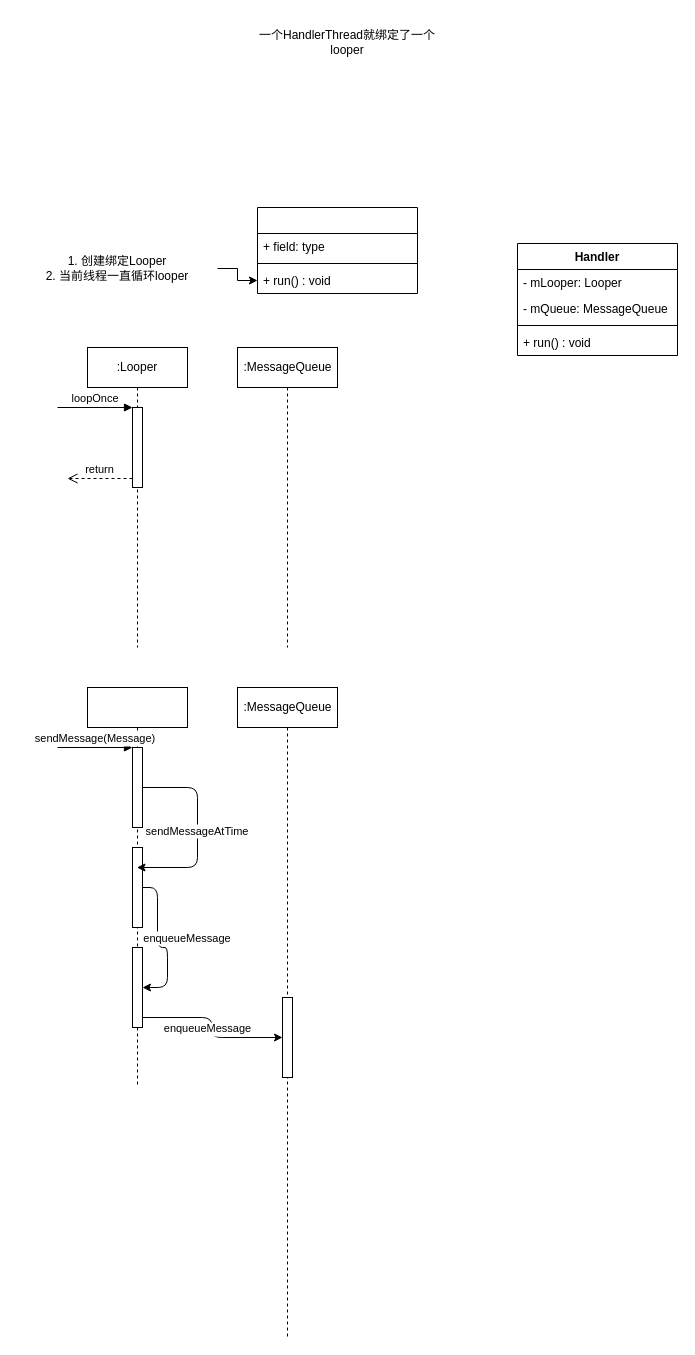
Some shapes in this 695 by 1355 pixel diagram are drawn without their labels. Each missing label, with the box of its shape:
: Handler: (86, 686, 188, 1088)
HandlerThread: (256, 206, 418, 294)
